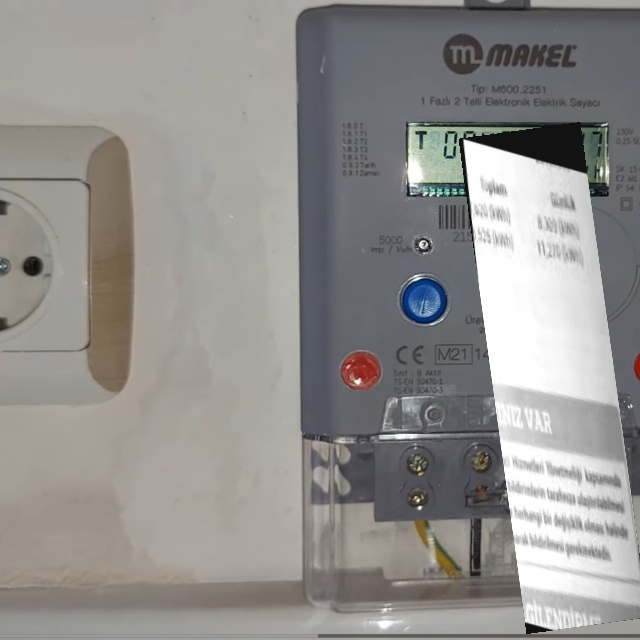electricity-bill: (458, 122, 639, 634)
